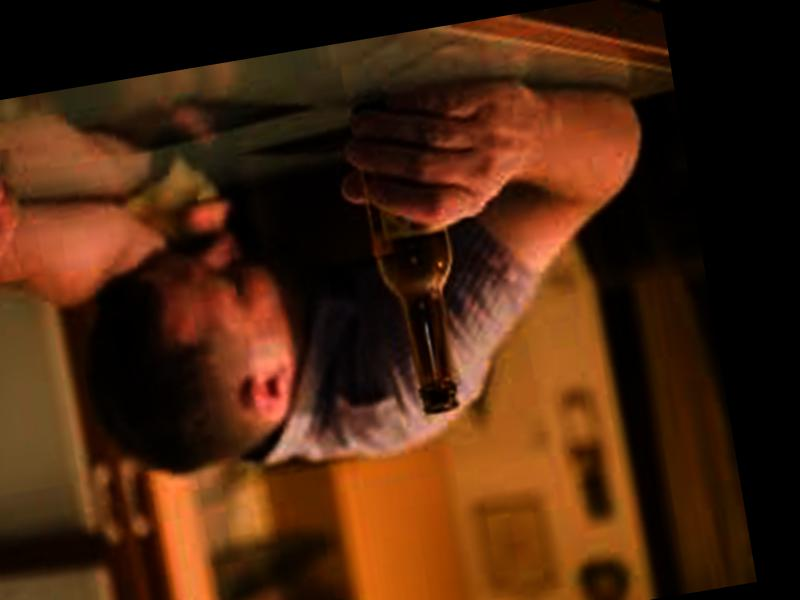Beer: (352, 92, 473, 420)
